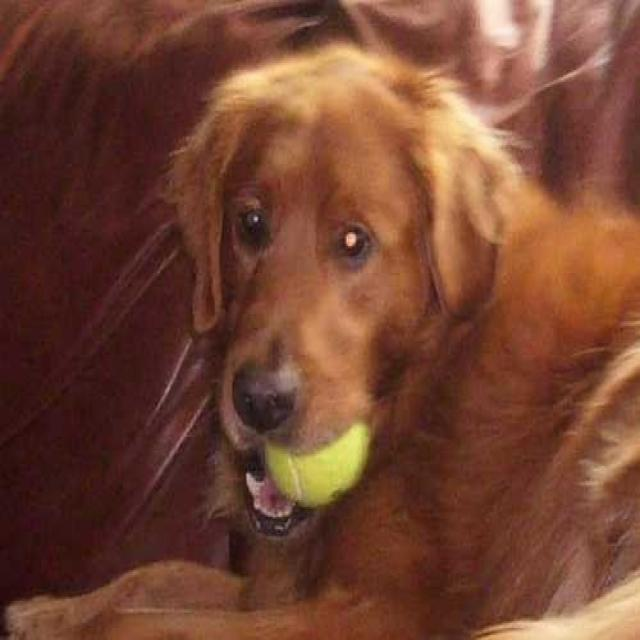Tennis_Ball: (270, 423, 371, 508)
